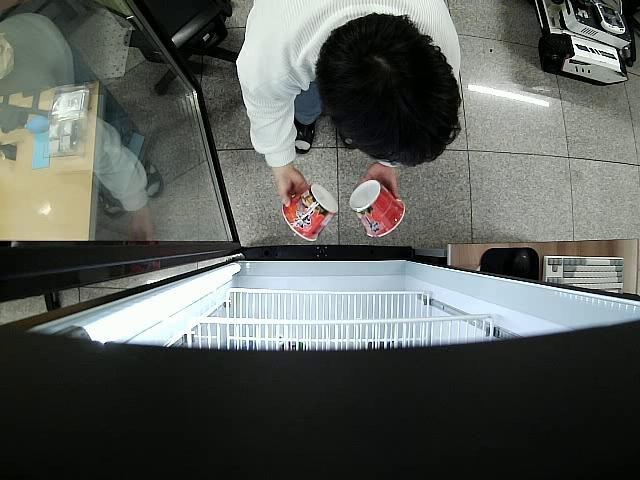01_ShinRamen_L: (349, 180, 404, 239), (282, 188, 338, 238)
